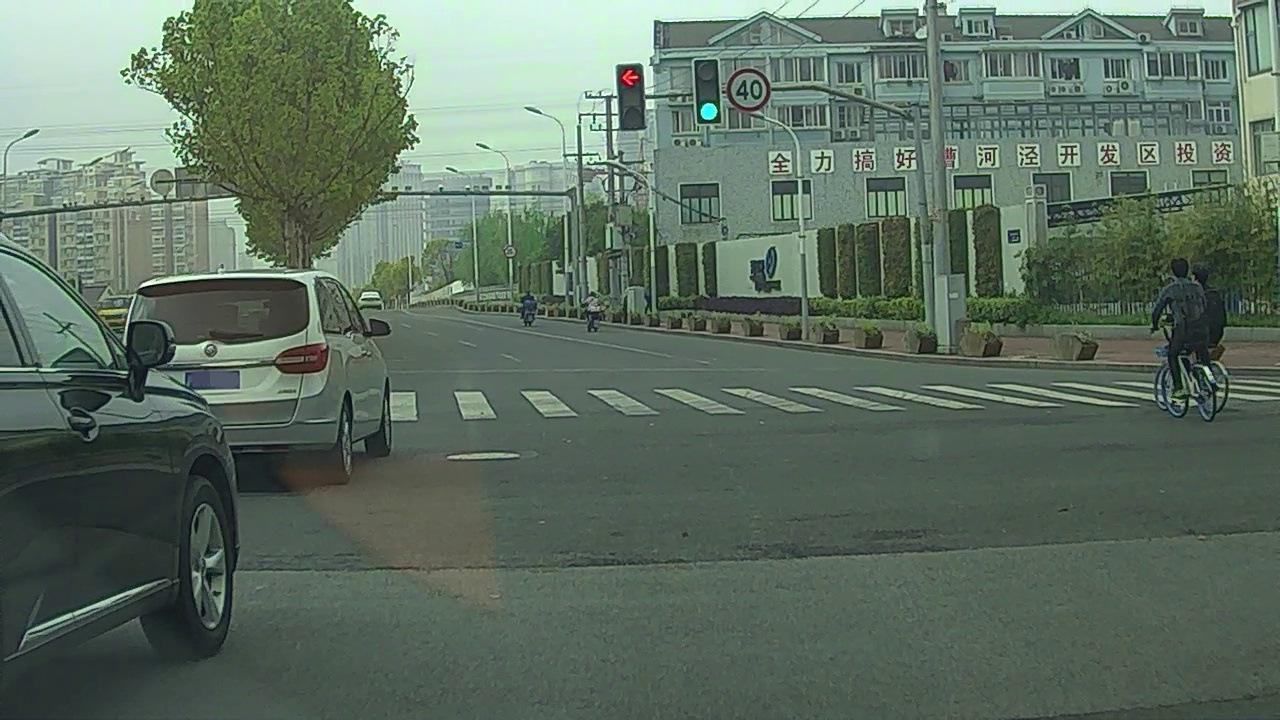traffic_light: (617, 64, 645, 129), (694, 59, 721, 124)
